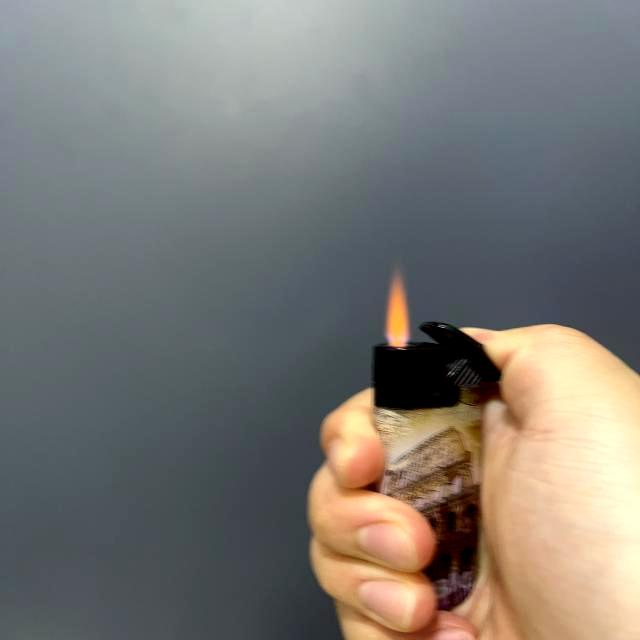fire: (382, 271, 413, 345)
